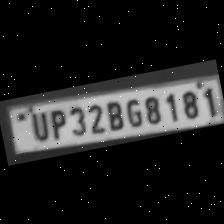1: (196, 80, 222, 116), (158, 88, 181, 122)
2: (82, 98, 106, 134)
3: (63, 102, 88, 136)
8: (174, 84, 202, 120), (139, 91, 165, 126)
B: (101, 96, 126, 132)
G: (121, 94, 145, 128)
P: (44, 105, 68, 138)
U: (23, 107, 50, 141)
